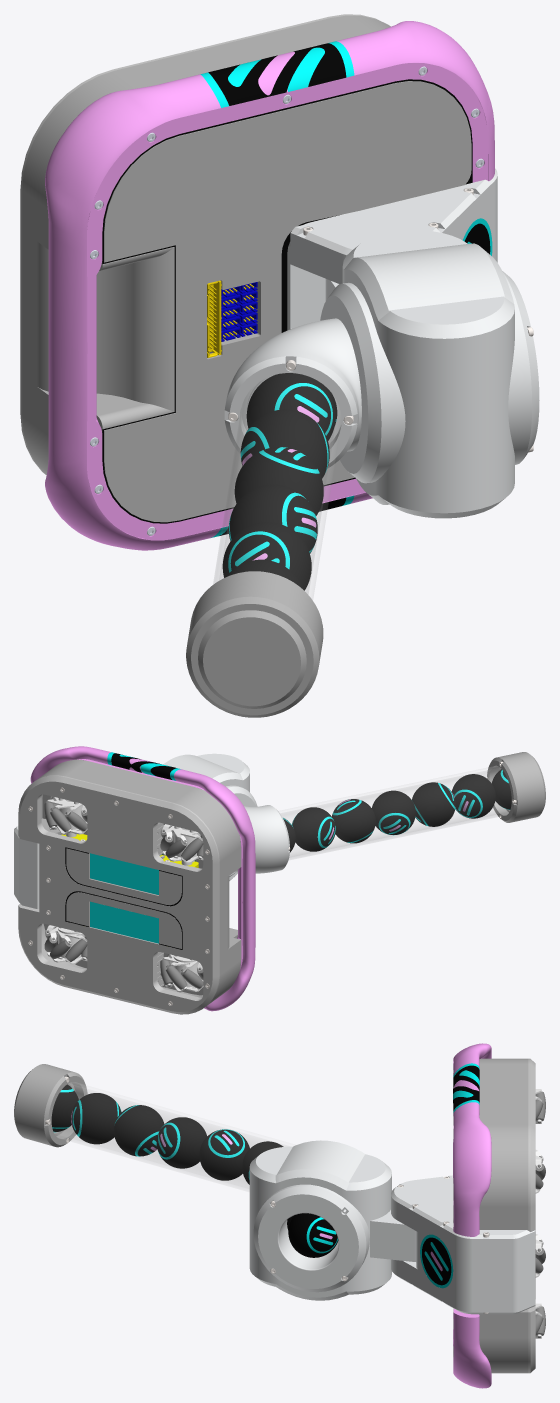
The model's file is Basquet2.glb.
The picture shows the model from 3 angles, top to bottom: view 1: azimuth 30°, elevation 25°; view 2: azimuth 150°, elevation 25°; view 3: azimuth 270°, elevation 25°; orthographic projection. The views are drawn at different scales.
Visible parts, largest first — view 1: Meera_SKbot_001_V1_P6_B-1, Meera_SKbot_001_V1_P4_B-1, Meera_SKbot_001_V1_P9-2, Meera_SKbot_001_V1_P10-1, Meera_SKbot_001_V1_P13-1, Meera_SKbot_001_V1_P2_B_2-1, Meera_SKbot_001_V1_P12-1, MeeraBall-2, MeeraBall-5, MeeraBall-6, MeeraBall-4, MeeraBall-1 (+2 smaller); view 2: Meera_SKbot_001_V1_P7_B-1, Meera_SKbot_001_V1_P10-1, Meera_SKbot_001_V1_P6_B-1, Meera_SKbot_001_V1_P4_B-1, Meera_SKbot_001_V1_P13-1, mecanumWheelHRVL-1 (×2), mecanumWheelHLVR-1 (×2), Meera_SKbot_001_V1_P12-1, Meera_SKbot_001_V1_P9-2, Meera_SKbot_001_V1_P2_B_2-1, MeeraBall-5, MeeraBall-2 (+4 smaller); view 3: Meera_SKbot_001_V1_P9-2, Meera_SKbot_001_V1_P2_B_2-1, Meera_SKbot_001_V1_P10-1, Meera_SKbot_001_V1_P6_B-1, Meera_SKbot_001_V1_P4_B-1, Meera_SKbot_001_V1_P13-1, MeeraBall-8 (×2), MeeraBall-5, MeeraBall-4, MeeraBall-7, MeeraBall-6, Meera_SKbot_001_V1_P7_B-1 (+1 smaller).
Part boxes in pixels (x1,y1,x2,y2): Meera_SKbot_001_V1_P6_B-1: (22,15,472,523); Meera_SKbot_001_V1_P4_B-1: (45,21,494,550); Meera_SKbot_001_V1_P9-2: (320,230,539,518); Meera_SKbot_001_V1_P10-1: (213,373,340,599); Meera_SKbot_001_V1_P13-1: (186,571,323,717); Meera_SKbot_001_V1_P2_B_2-1: (287,168,497,330); Meera_SKbot_001_V1_P12-1: (224,318,361,468); MeeraBall-2: (240,409,329,478); MeeraBall-5: (228,484,317,553); MeeraBall-6: (222,522,311,590); MeeraBall-4: (234,447,323,515); MeeraBall-1: (246,373,335,440); Meera_SKbot_001_V1_P7_B-1: (18,775,219,1014); Meera_SKbot_001_V1_P10-1: (279,766,510,859); Meera_SKbot_001_V1_P6_B-1: (19,759,241,1005); Meera_SKbot_001_V1_P4_B-1: (30,746,255,1011); Meera_SKbot_001_V1_P13-1: (487,752,545,822); mecanumWheelHRVL-1 (×2): (44,824,203,964); mecanumWheelHLVR-1 (×2): (44,796,203,992); Meera_SKbot_001_V1_P12-1: (234,805,289,873); Meera_SKbot_001_V1_P9-2: (163,753,257,880); Meera_SKbot_001_V1_P2_B_2-1: (14,826,39,908); MeeraBall-5: (371,790,415,835); MeeraBall-2: (292,807,335,851); Meera_SKbot_001_V1_P9-2: (249,1140,416,1300); Meera_SKbot_001_V1_P2_B_2-1: (391,1175,535,1314); Meera_SKbot_001_V1_P10-1: (52,1082,294,1191); Meera_SKbot_001_V1_P6_B-1: (453,1058,528,1373); Meera_SKbot_001_V1_P4_B-1: (453,1043,491,1388); Meera_SKbot_001_V1_P13-1: (14,1064,87,1147); MeeraBall-8 (×2): (51,1084,338,1257); MeeraBall-5: (156,1117,207,1168); MeeraBall-4: (199,1129,249,1180); MeeraBall-7: (71,1093,121,1144); MeeraBall-6: (114,1105,164,1156); Meera_SKbot_001_V1_P7_B-1: (528,1058,535,1373).
Bounding box in the file's own units: 0.4315 × 0.2853 × 0.5163.
